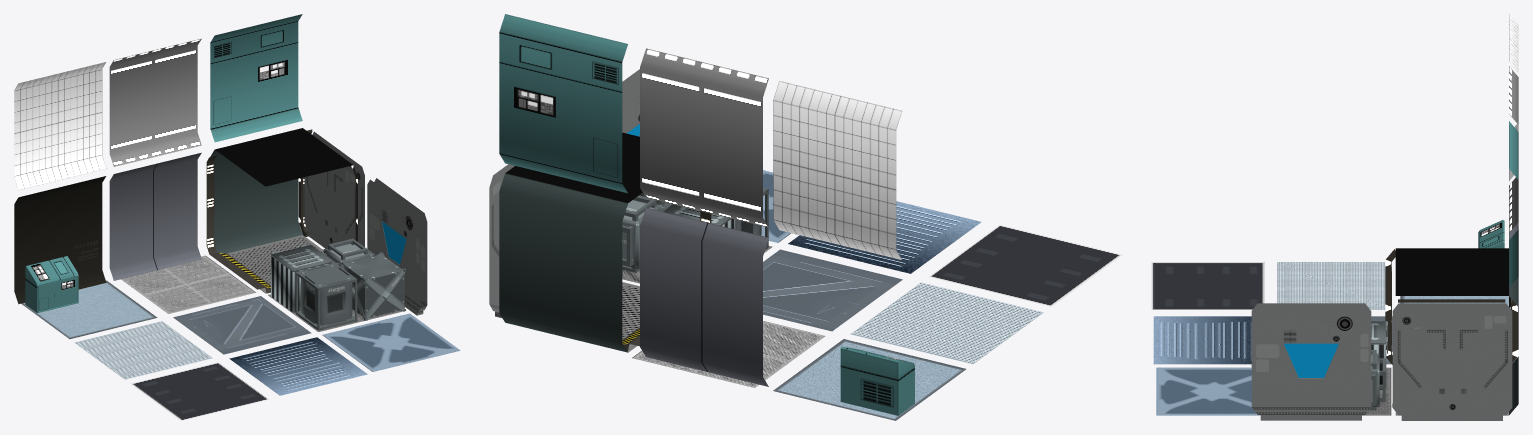
Rendered from sci-fi_interior_pack_lowpoly.glb.
3 views of the same model, side by side, from view 1: azimuth 30°, elevation 25°; view 2: azimuth 150°, elevation 25°; view 3: azimuth 270°, elevation 25° (orthographic). The views are drawn at different scales.
Parts seen in each view (by area): view 1: Walls_6, FloorCeilings_9, Crates, Doors, Ceiling_Straight, Doorways, SlidingDoor_Window; view 2: Walls_6, FloorCeilings_9, Crates, Doors, Ceiling_Straight; view 3: Doors, FloorCeilings_9, Ceiling_Straight, Walls_6, Doorways, SlidingDoor_Window, Crates.
Boxes of the visible parts, x1,y1,x2,y2 form: Walls_6: (14, 14, 302, 313); FloorCeilings_9: (21, 235, 460, 420); Crates: (271, 238, 405, 330); Doors: (304, 131, 427, 315); Ceiling_Straight: (215, 128, 353, 186); Doorways: (206, 129, 357, 293); SlidingDoor_Window: (382, 221, 406, 264); Walls_6: (499, 14, 914, 415); FloorCeilings_9: (622, 170, 1122, 420); Crates: (622, 187, 768, 272); Doors: (489, 69, 639, 317); Ceiling_Straight: (505, 132, 642, 202); Doors: (1251, 303, 1512, 420); FloorCeilings_9: (1151, 262, 1515, 415); Ceiling_Straight: (1395, 248, 1508, 295); Walls_6: (1478, 14, 1518, 414); Doorways: (1385, 248, 1517, 406); SlidingDoor_Window: (1284, 343, 1338, 377); Crates: (1369, 321, 1387, 410).
Bounding box in the file's own units: 11.7 × 8.39 × 11.33.
Materials: 6 (5 with a texture image).
